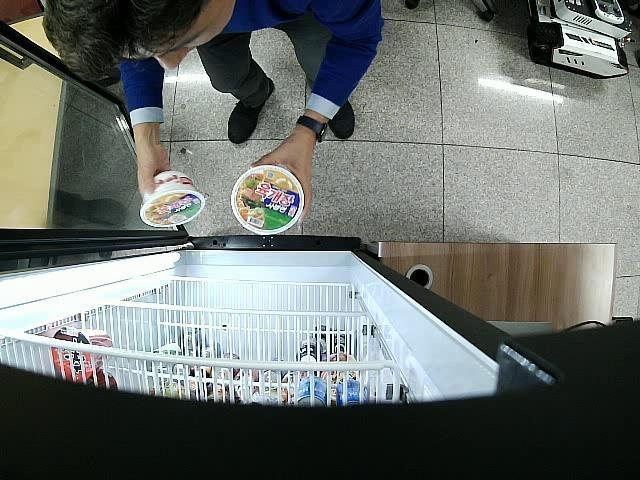09_yukGaeJang: (230, 166, 304, 232), (140, 171, 205, 226)
